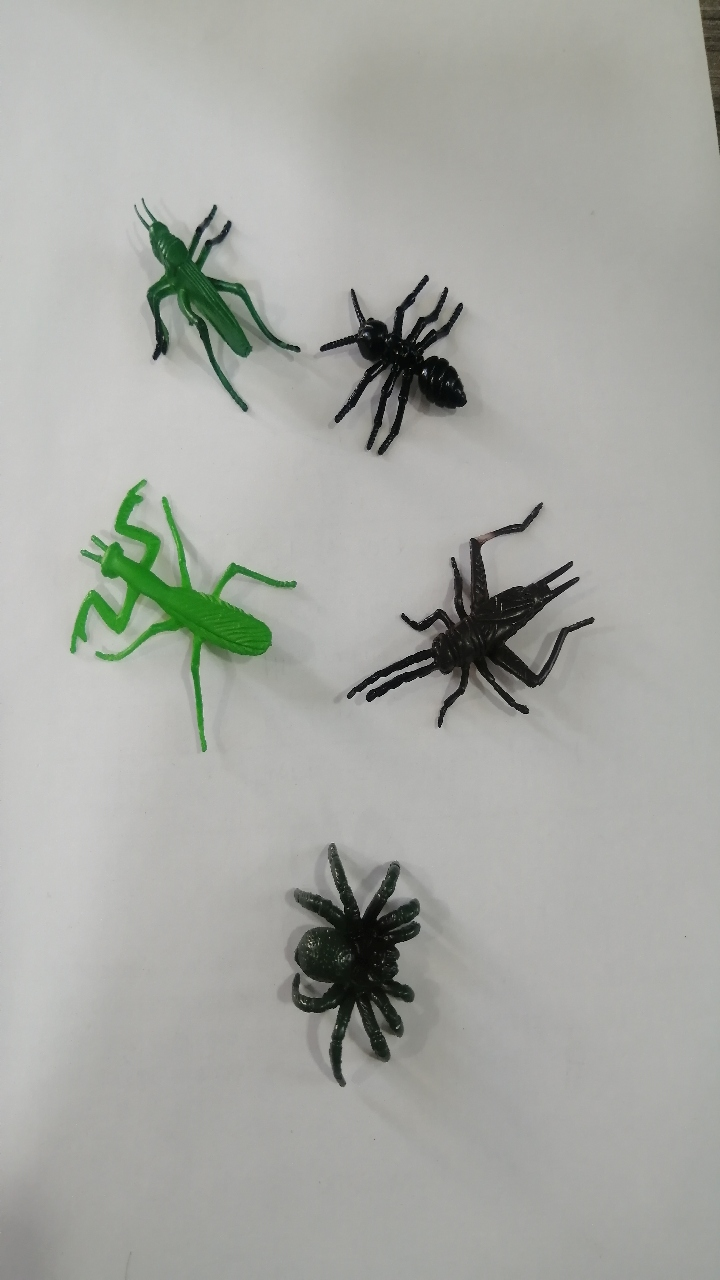intruso: (323, 474, 624, 749), (44, 455, 301, 777), (241, 808, 457, 1117), (111, 168, 297, 426), (300, 232, 495, 471)
